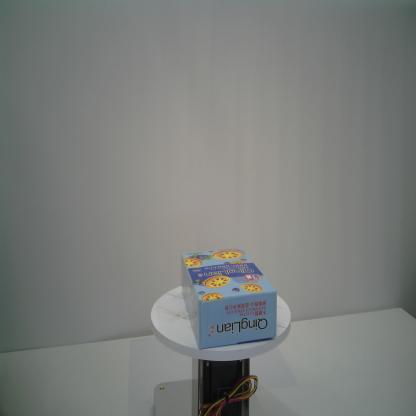Dessert: (180, 248, 278, 351)
